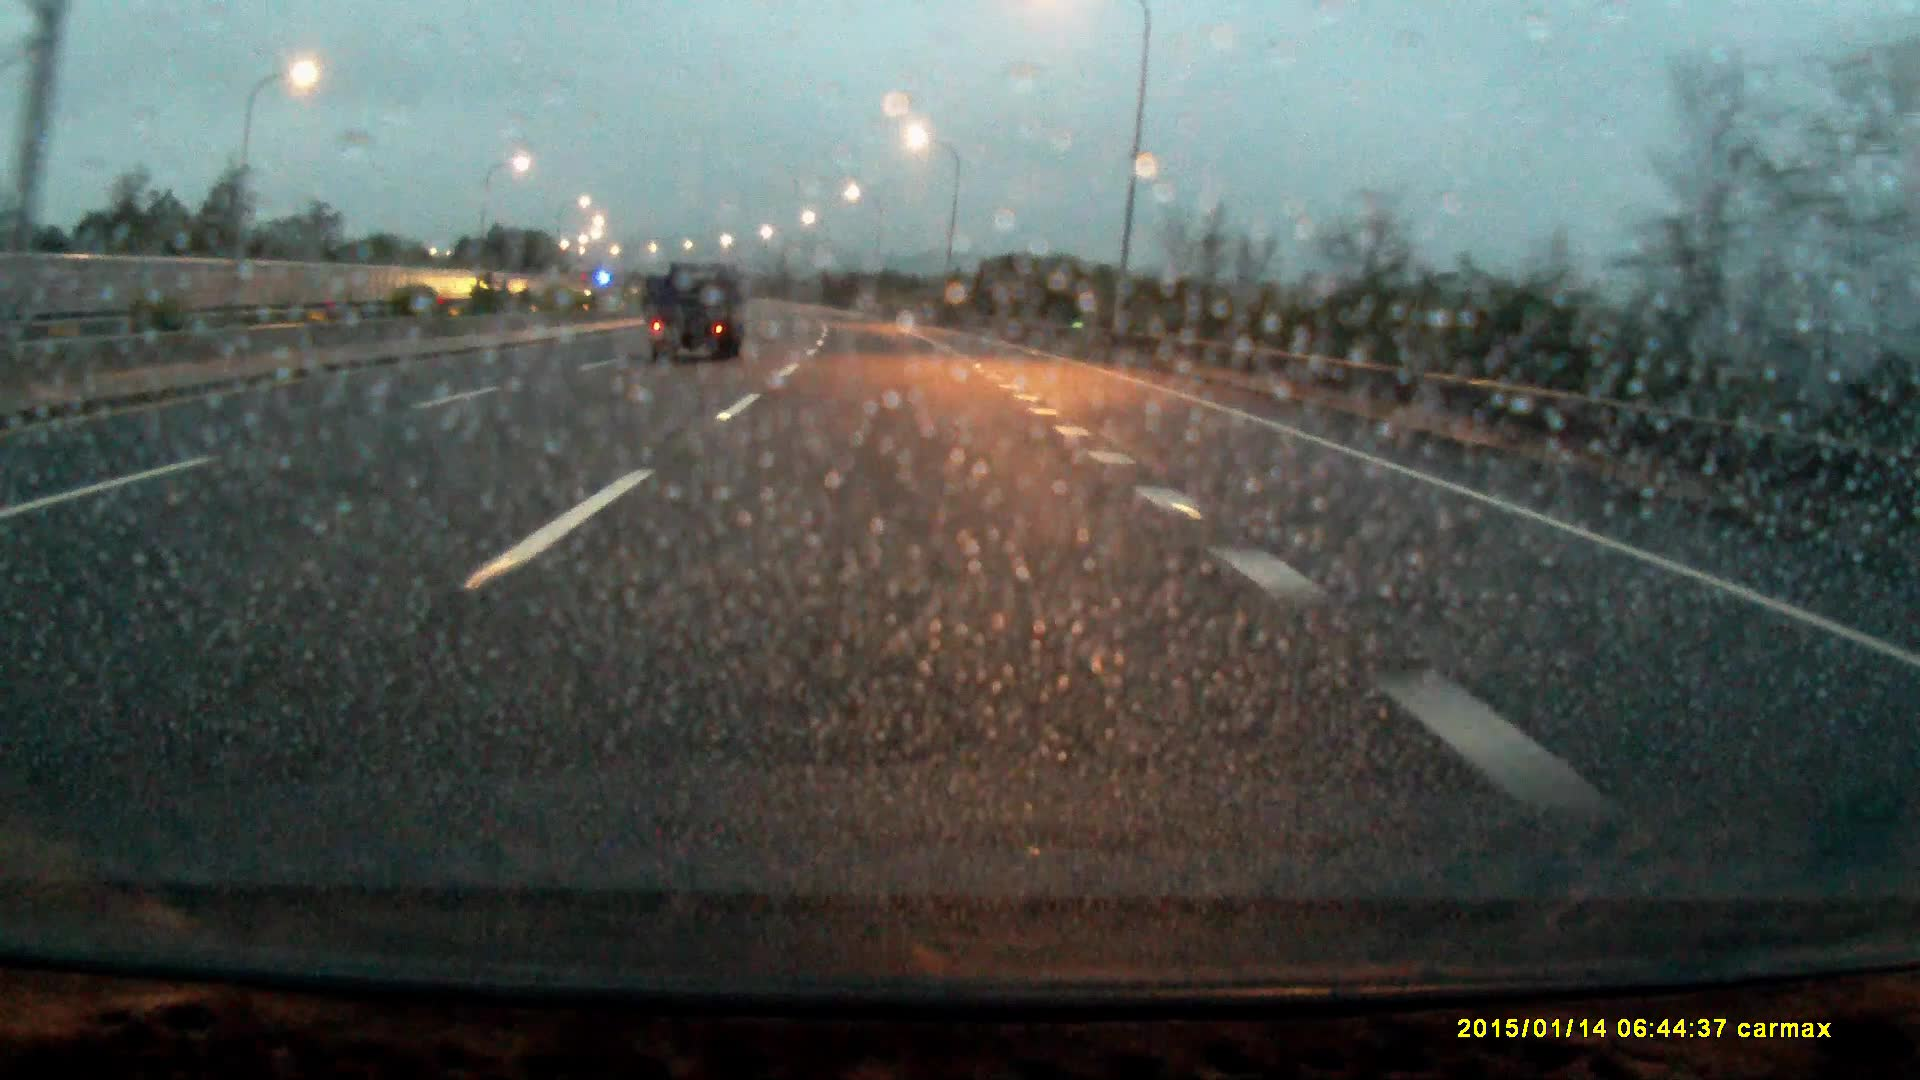vehicle: (647, 255, 748, 367)
